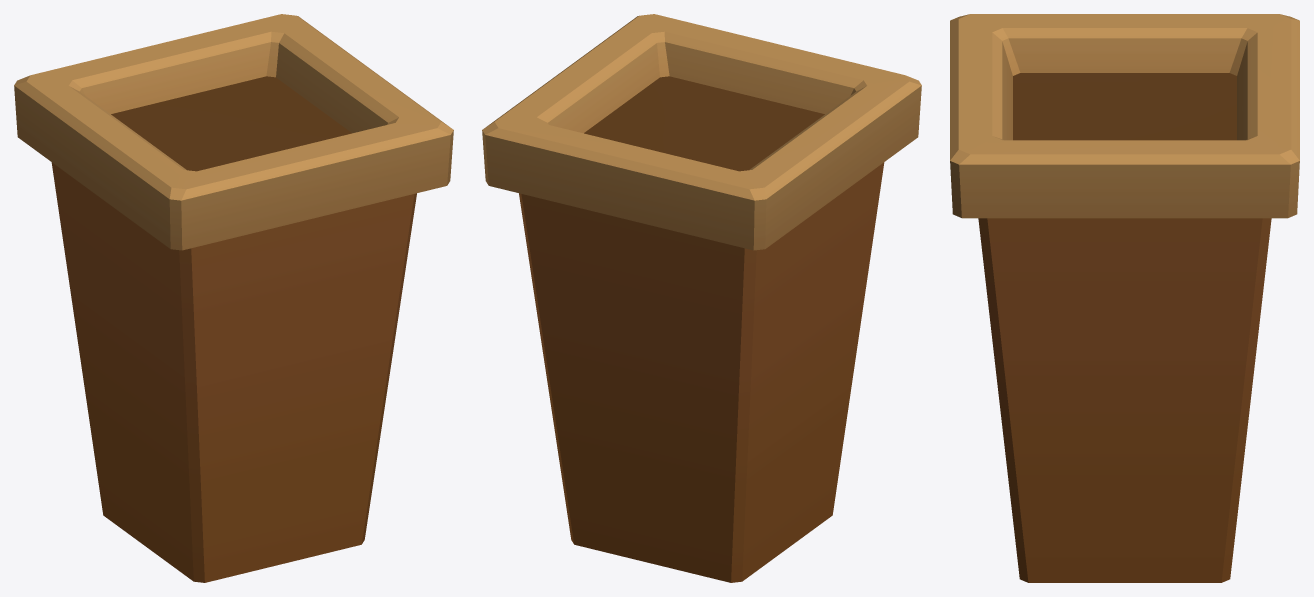
The model's file is PlantPot_2_A.fbx.
The picture shows the model from 3 angles, left to right: view 1: azimuth 30°, elevation 25°; view 2: azimuth 150°, elevation 25°; view 3: azimuth 270°, elevation 25°; orthographic projection. The views are drawn at different scales.
Parts seen in each view (by area): view 1: PlantPot_2_A; view 2: PlantPot_2_A; view 3: PlantPot_2_A.
Part boxes in pixels (box(x1,y1,x2,y2)): PlantPot_2_A: box(14, 14, 453, 582); PlantPot_2_A: box(482, 14, 921, 582); PlantPot_2_A: box(950, 14, 1299, 582).
Size of the model in its own units: 36.24 by 51.92 by 36.24.
